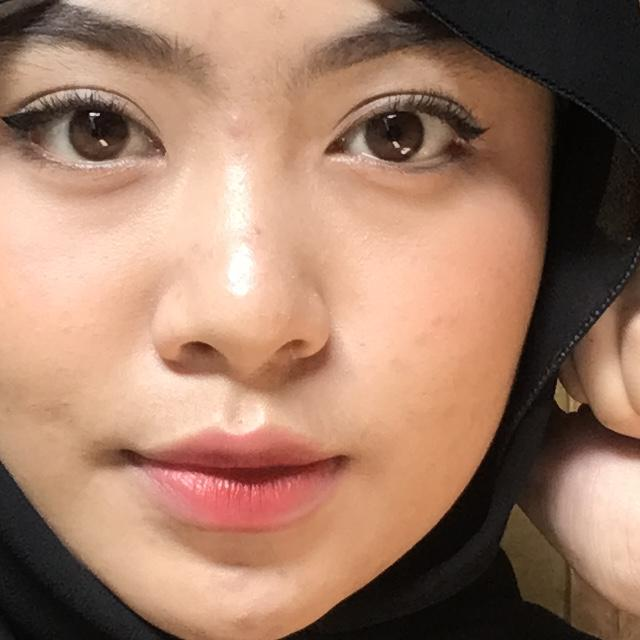ibu: (450, 216, 640, 640)
